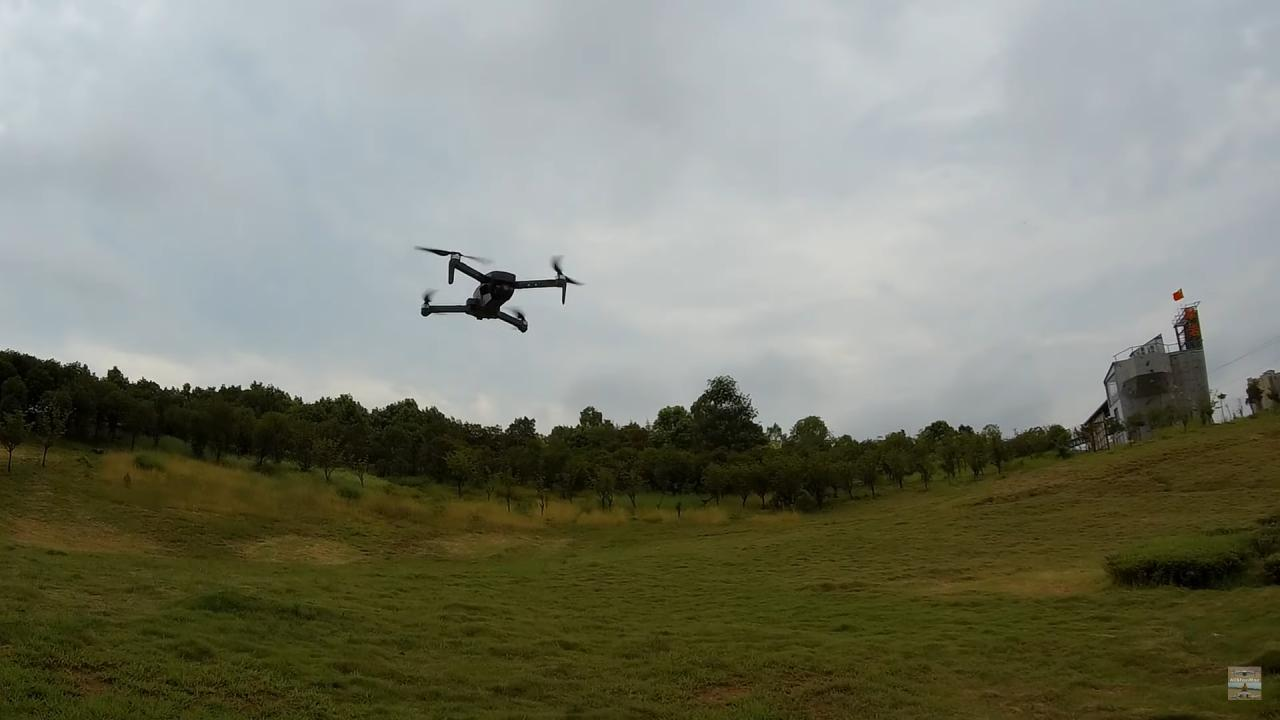Drone: (396, 226, 598, 344)
